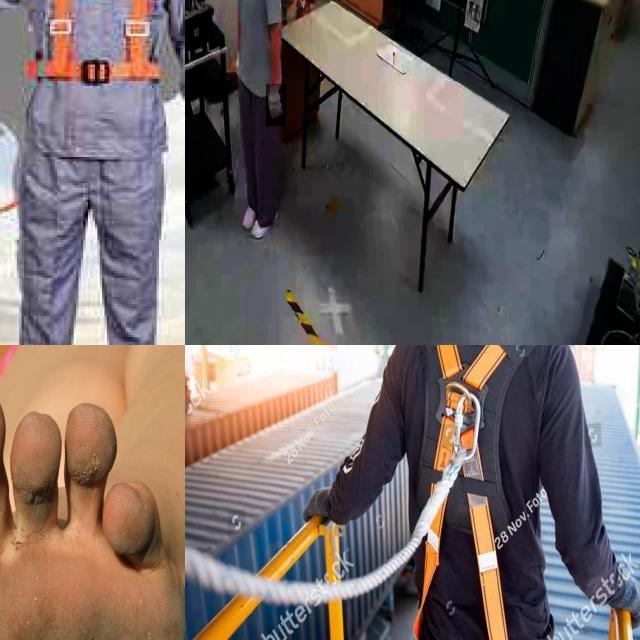Barefoots: (0, 387, 185, 640)
Harness: (415, 345, 536, 640), (17, 0, 178, 136)
hand_glove: (266, 84, 286, 127)
person: (220, 0, 297, 232)
shoes: (240, 198, 260, 230)
